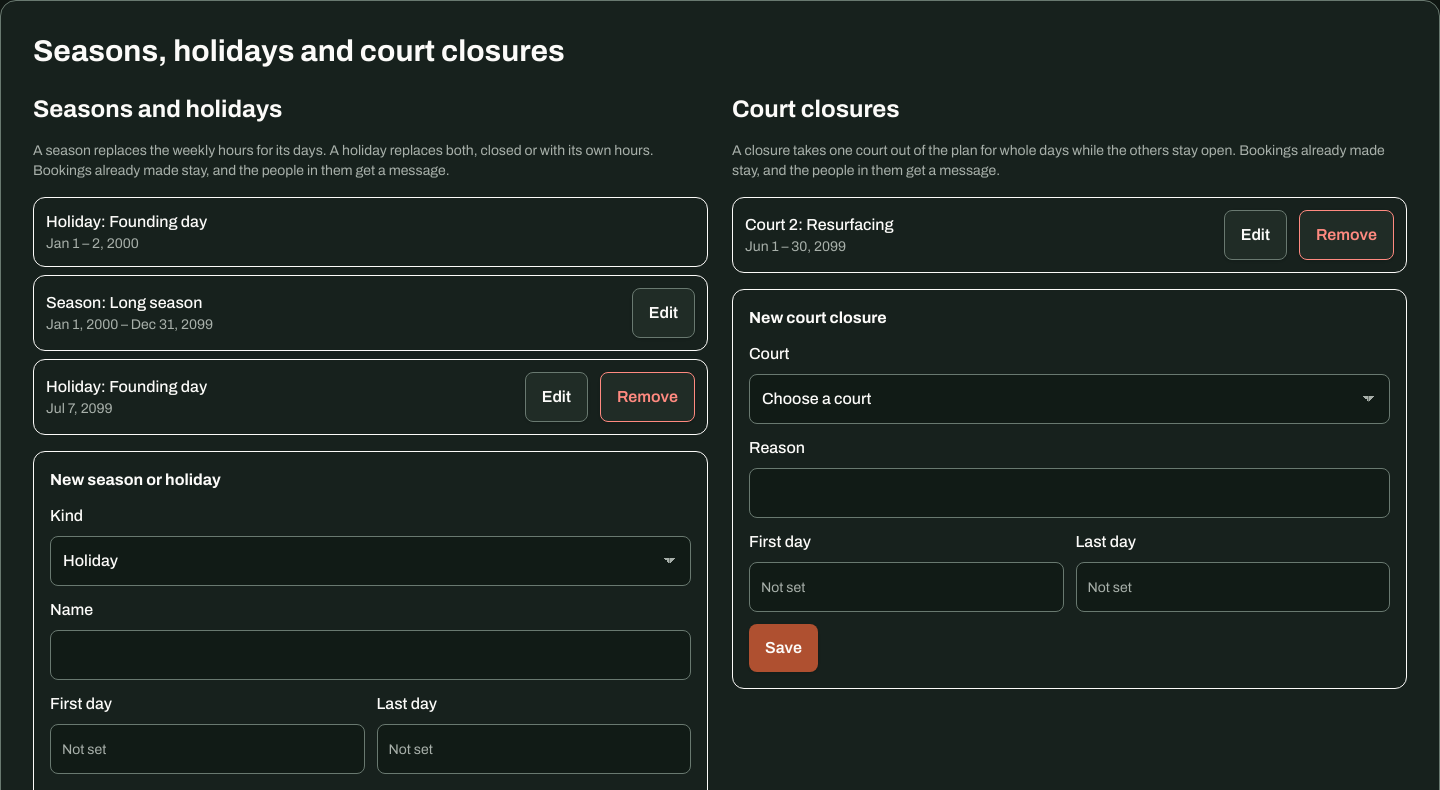
Scenario: AdminAvailabilityView › given a closure the instance refuses as overlapping, when it is saved, then the refusal is translated
Expected: the form with test id "court-closure-form" is shown, x1=732 y1=289 x2=1407 y2=689
Select "Court 2" in the dropdown with test id "court-closure-court". click: (1070, 399)
box: x1=749 y1=374 x2=1390 y2=424
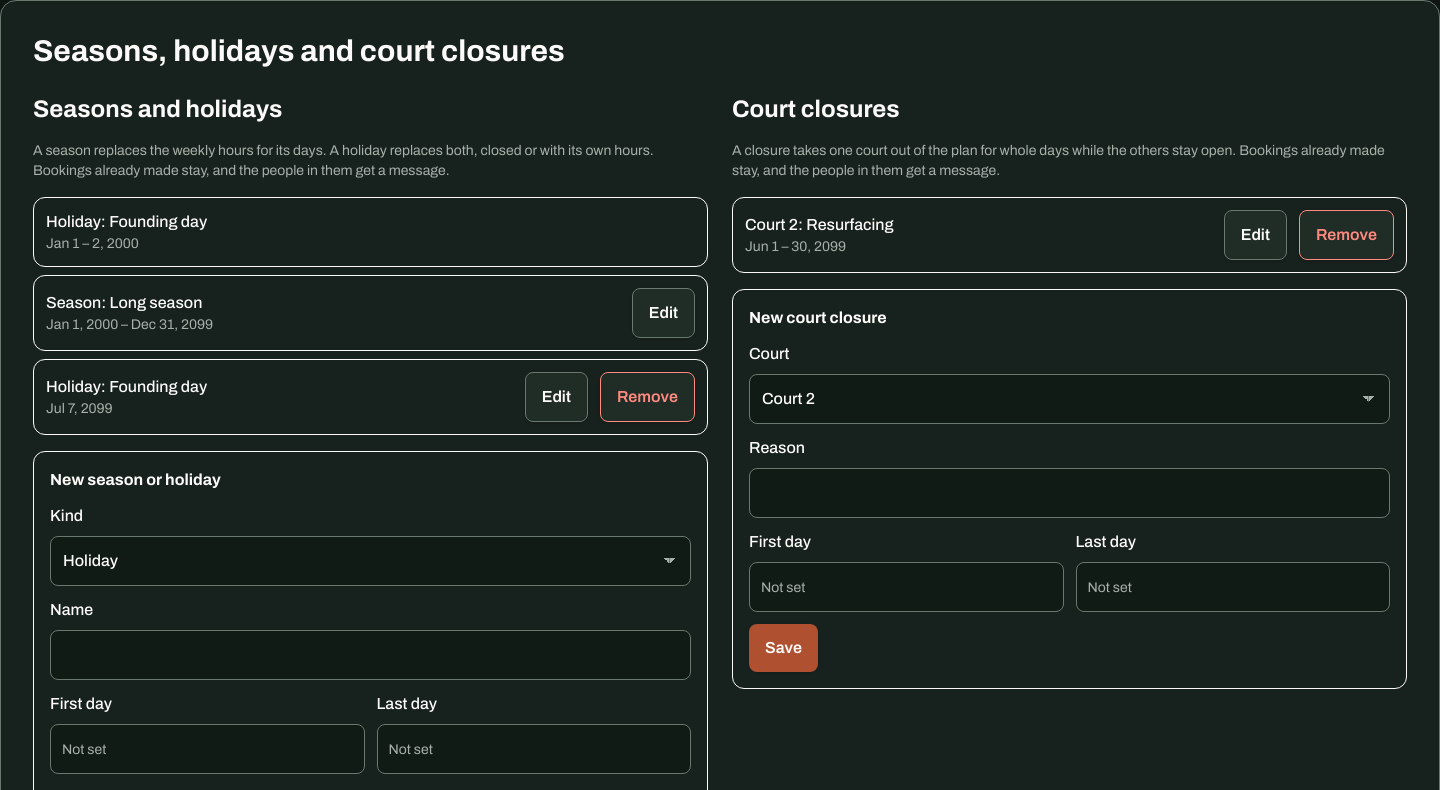
Type "Lights" into the field with test id "court-closure-name". click: (1070, 493)
box: x1=749 y1=468 x2=1390 y2=518
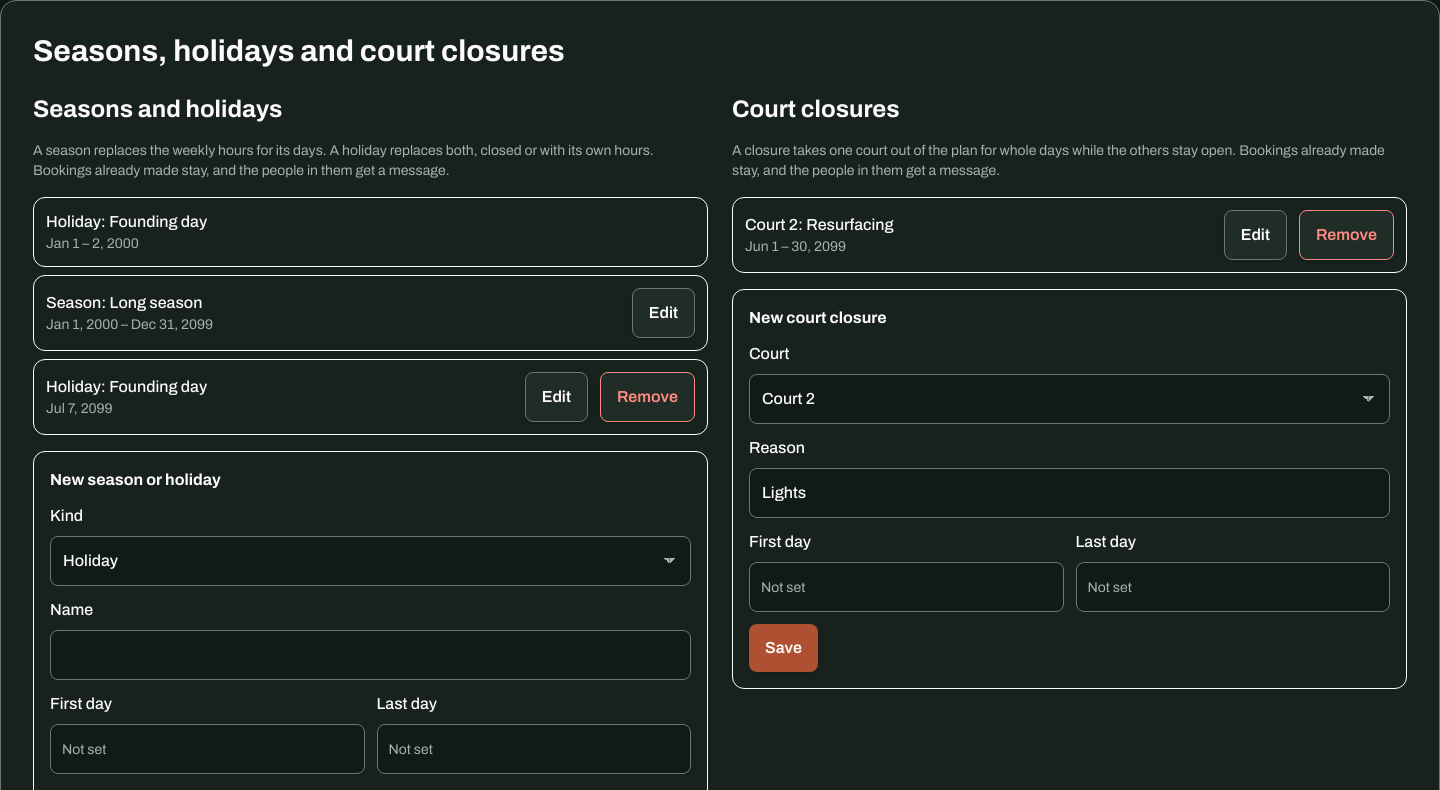
Type "2099-06-30" into the field with test id "court-closure-starts-on". click: (906, 587)
box: x1=749 y1=562 x2=1064 y2=612
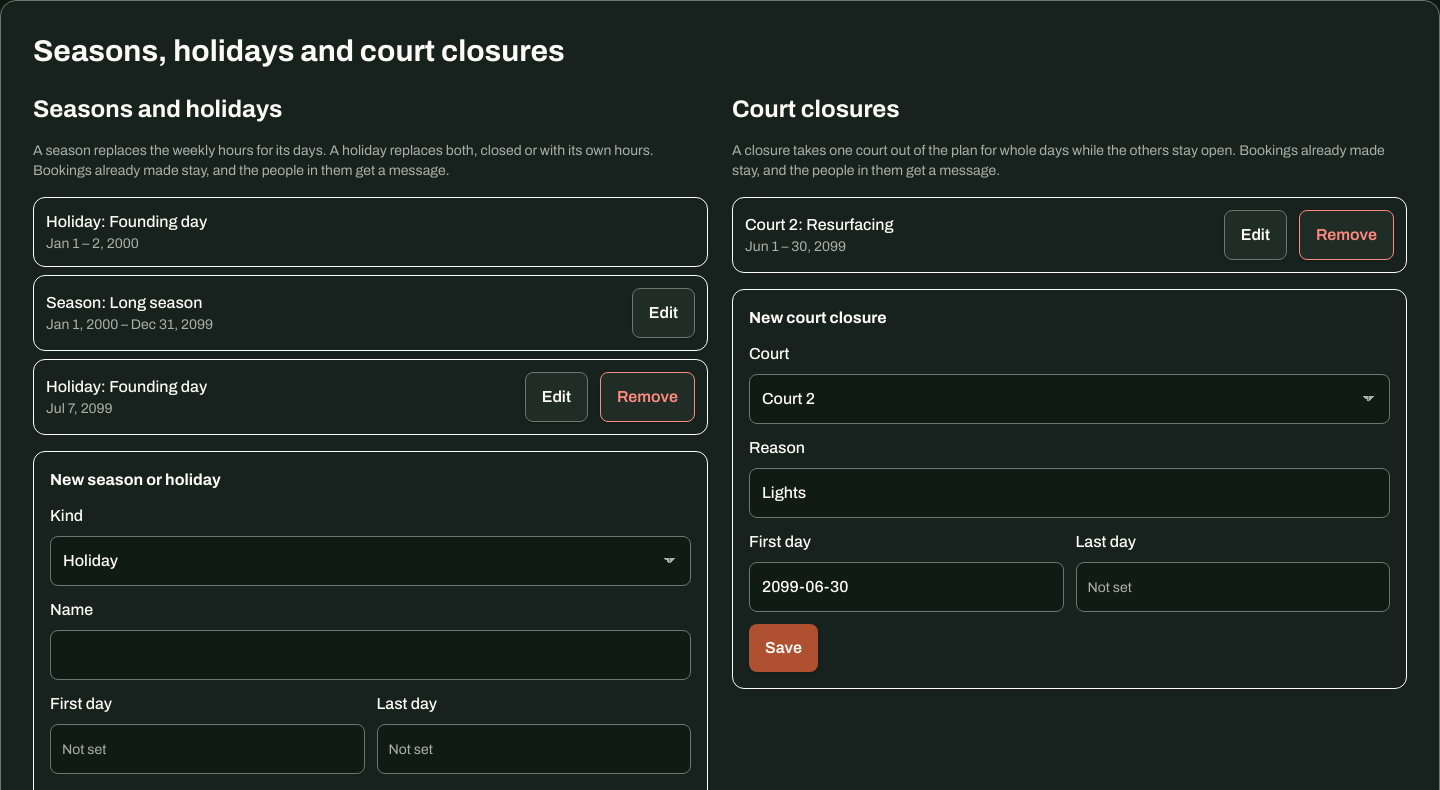
Type "2099-07-02" into the field with test id "court-closure-ends-on". click: (1233, 587)
box: x1=1076 y1=562 x2=1390 y2=612
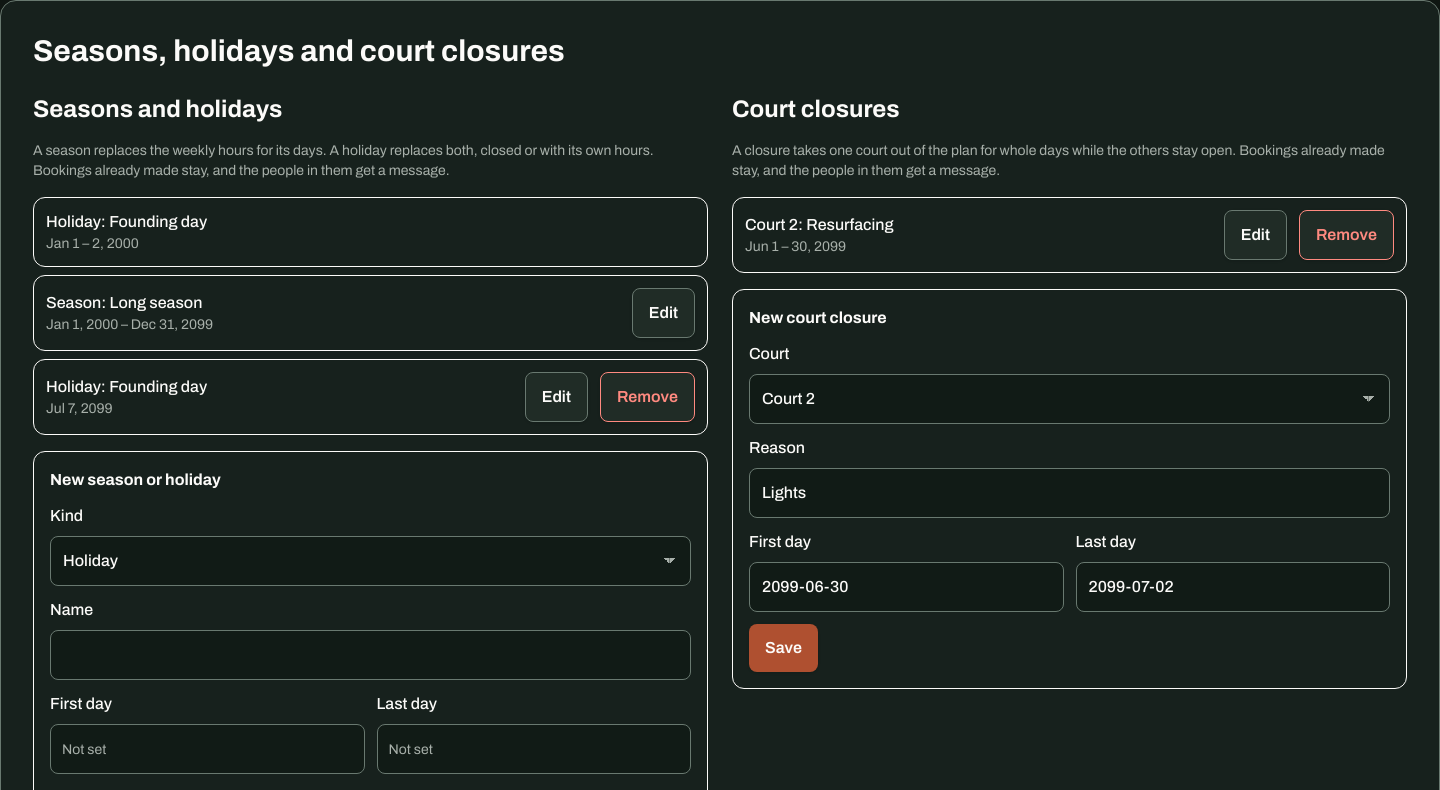
Click the button with test id "save-court-closure". click: (784, 648)
box: x1=749 y1=624 x2=818 y2=672
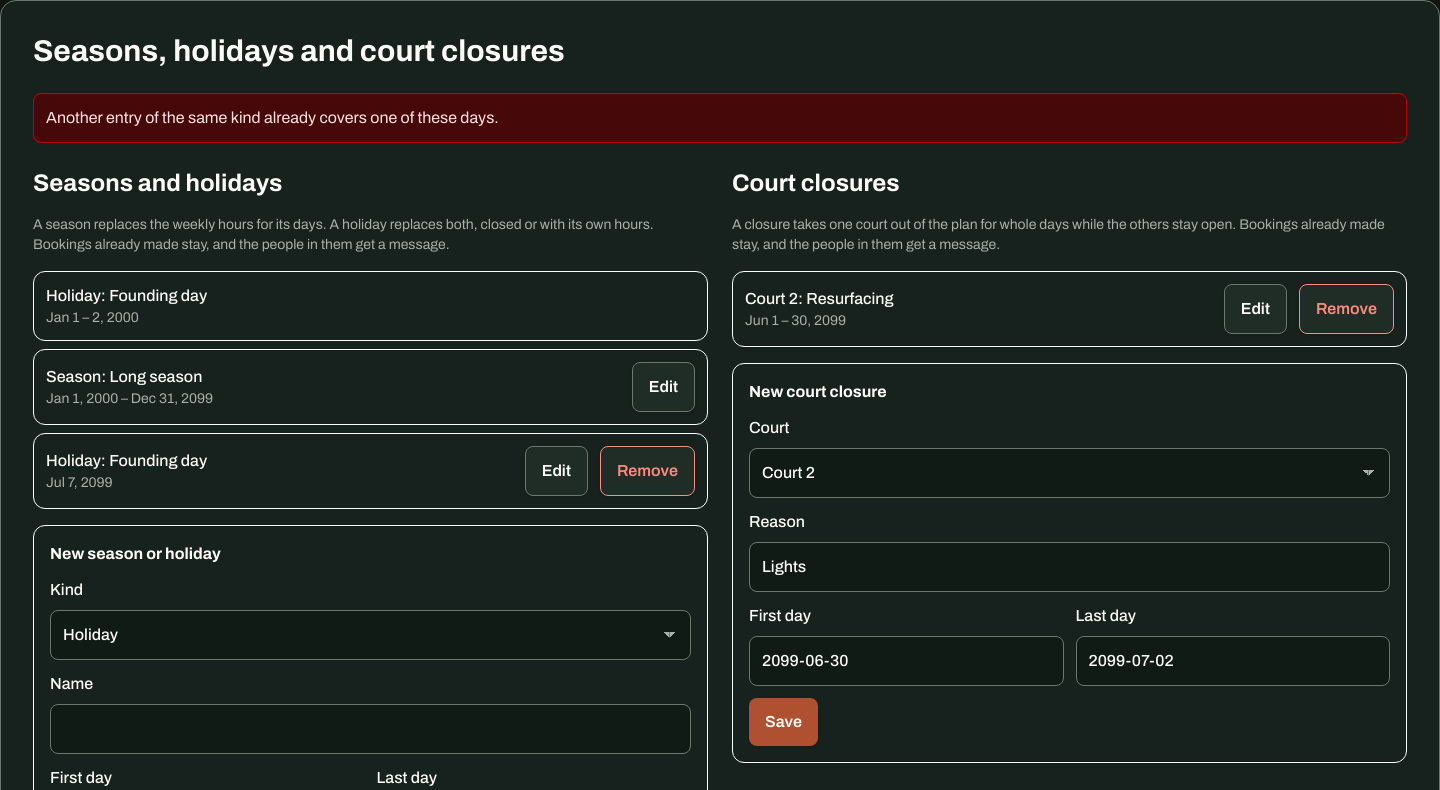
Result: the message reads "Another entry of the same kind already covers one of these days." at x1=46 y1=109 x2=499 y2=126
